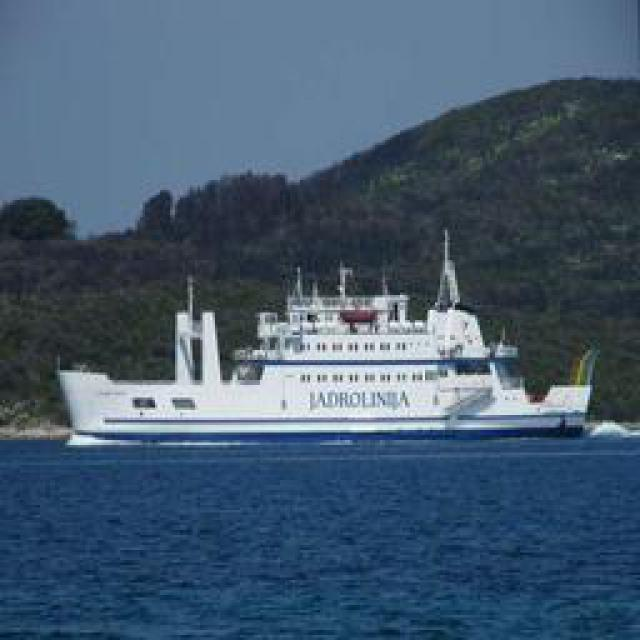Ship: (50, 246, 603, 441)
